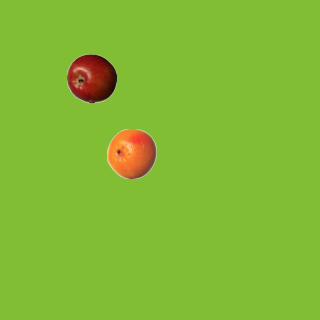Apple Braeburn: (66, 53, 116, 103)
Grapefruit Pink: (106, 128, 156, 178)
